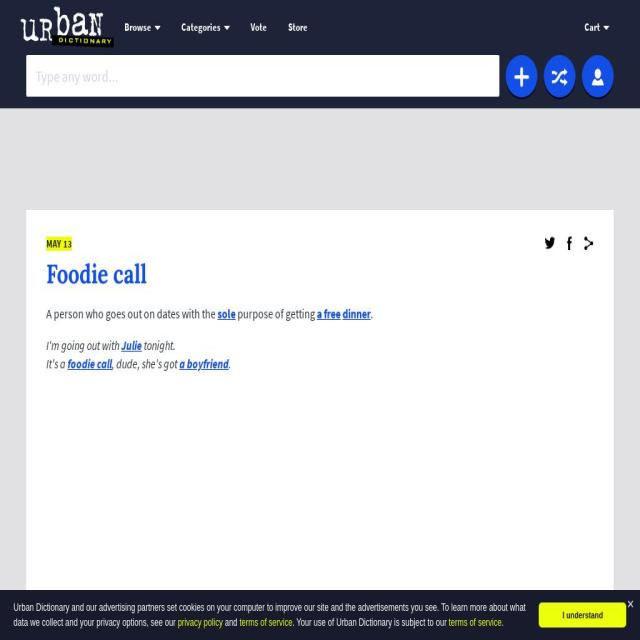button: (453, 94, 618, 118), (170, 7, 240, 48), (114, 7, 171, 48), (539, 602, 627, 628), (574, 7, 620, 48), (277, 7, 318, 48), (240, 7, 278, 48), (506, 55, 538, 97), (544, 55, 576, 97), (582, 55, 614, 97), (156, 153, 182, 187), (192, 153, 218, 187), (228, 153, 254, 187), (156, 298, 182, 332), (192, 298, 218, 332), (156, 57, 182, 90), (192, 57, 218, 90), (228, 57, 254, 90), (156, 105, 182, 138), (192, 105, 218, 138), (228, 105, 254, 138), (156, 202, 182, 235), (192, 202, 218, 235), (228, 202, 254, 235), (156, 250, 182, 283), (192, 250, 218, 283), (228, 250, 254, 283), (120, 153, 145, 187), (265, 153, 290, 187), (120, 298, 145, 332), (120, 57, 145, 90), (265, 57, 290, 90), (120, 105, 145, 138), (265, 105, 290, 138), (120, 202, 145, 235), (265, 202, 290, 235), (120, 250, 145, 283), (265, 250, 290, 283), (545, 236, 555, 252), (564, 236, 574, 252), (584, 236, 594, 252)
field: (27, 55, 500, 97)
image: (46, 385, 594, 640), (0, 121, 640, 197), (20, 7, 114, 50), (590, 67, 606, 88), (514, 67, 529, 88), (552, 67, 567, 88), (545, 236, 555, 250), (564, 236, 574, 250), (584, 236, 594, 250)
link: (46, 256, 147, 291), (179, 354, 229, 372), (67, 354, 112, 372), (239, 617, 293, 628), (448, 617, 502, 628), (342, 304, 370, 322), (178, 617, 223, 628), (317, 304, 341, 322), (121, 336, 142, 353), (218, 304, 235, 322)
text: (13, 602, 526, 628), (46, 304, 218, 322), (453, 60, 618, 77), (292, 617, 449, 628), (236, 304, 316, 322), (46, 336, 122, 353), (112, 354, 179, 372), (142, 336, 176, 353), (46, 354, 68, 372), (46, 236, 72, 251), (222, 617, 240, 628), (627, 598, 634, 610), (371, 304, 373, 322), (229, 354, 231, 372), (501, 617, 504, 628)
